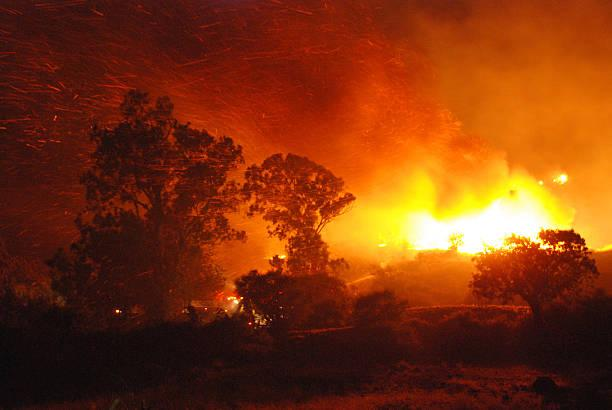Fire: (406, 184, 558, 249)
